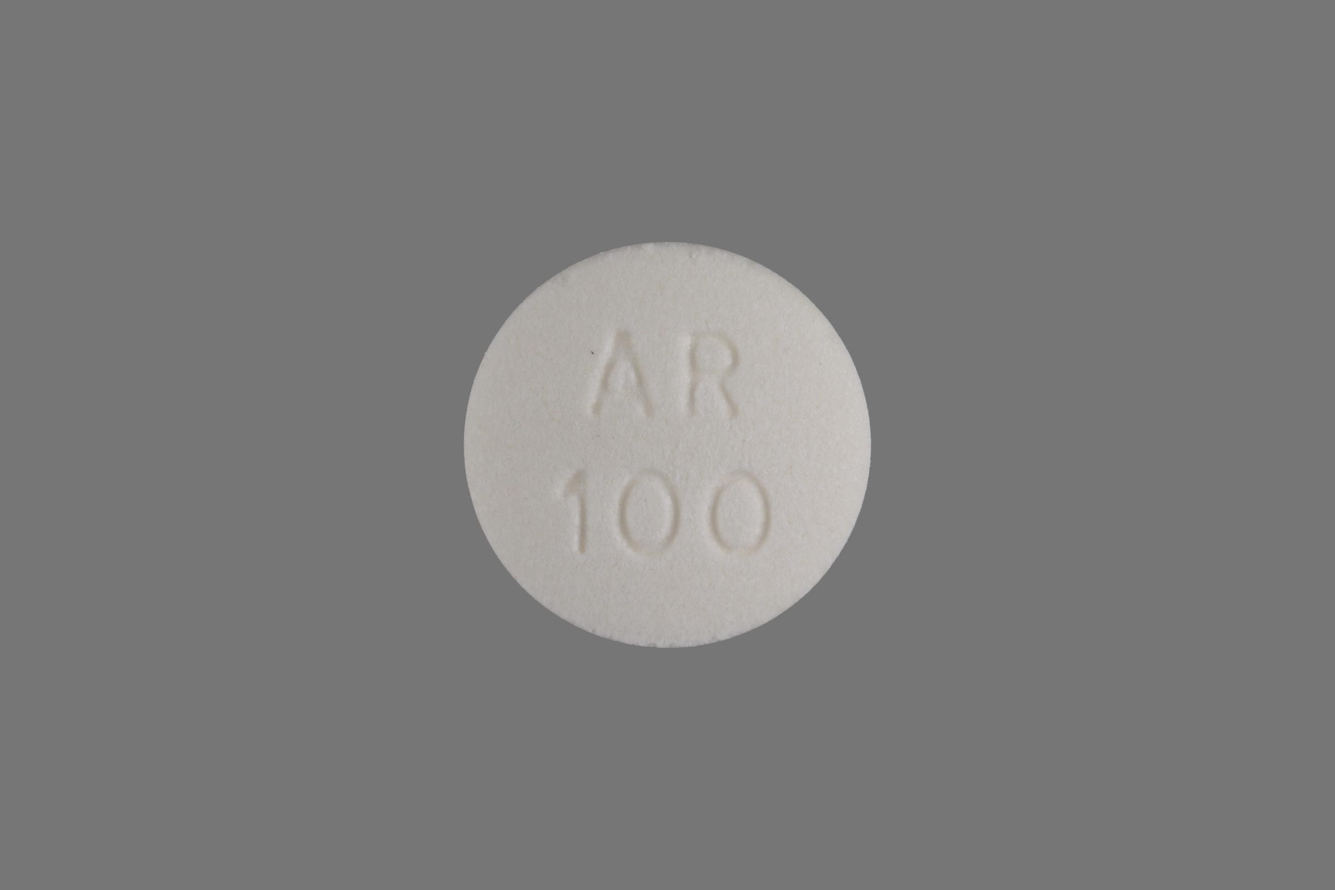Pill: (456, 232, 880, 656)
